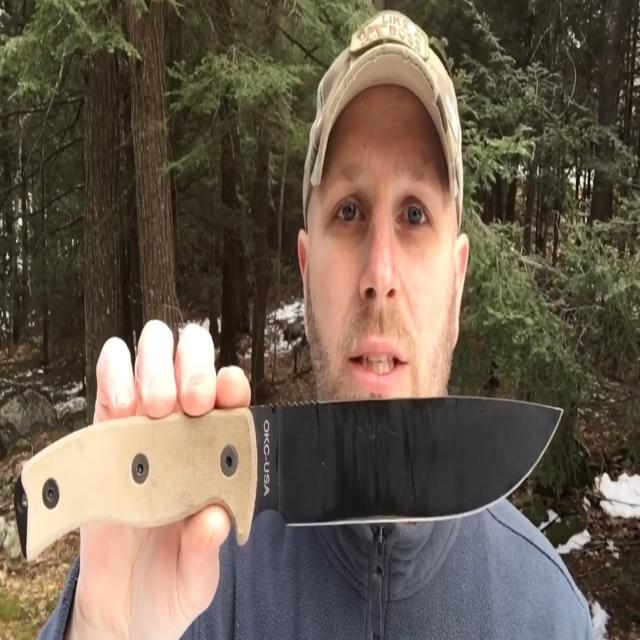knife: (11, 397, 571, 563)
